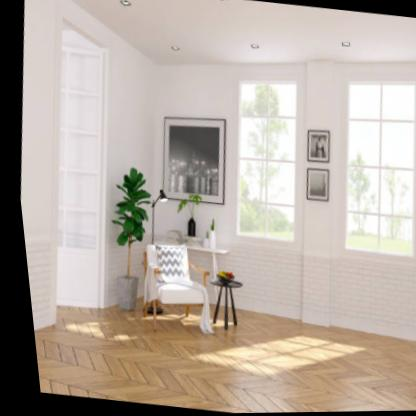Frame: (158, 119, 222, 204)
Window: (322, 79, 416, 257), (215, 77, 309, 244)
